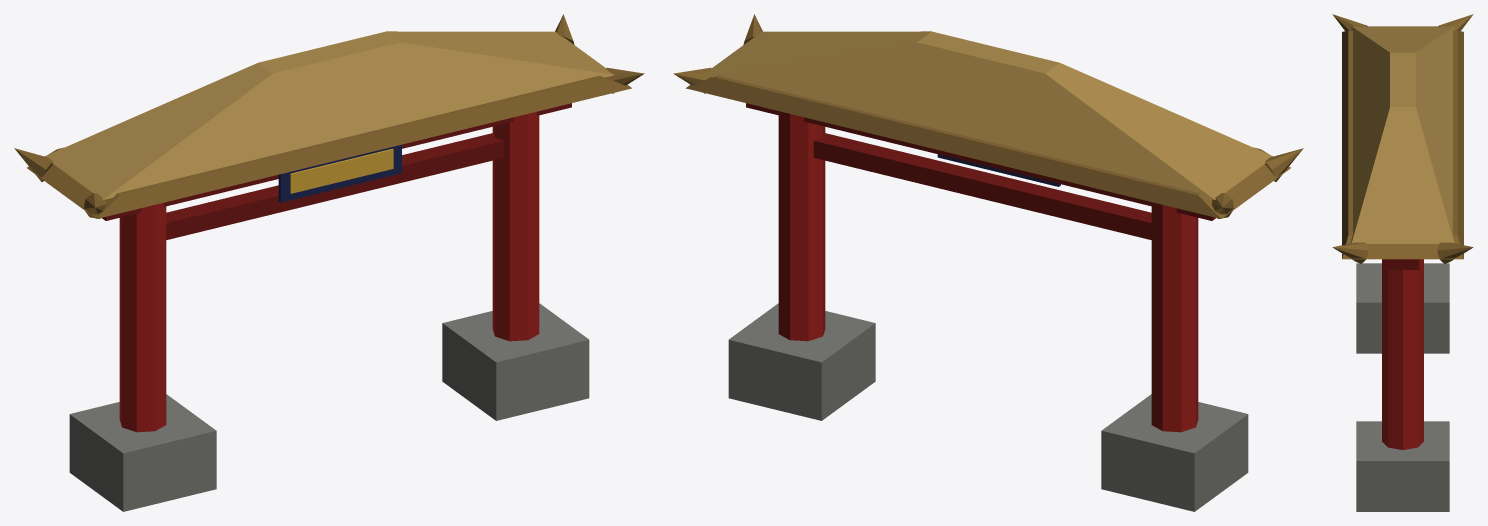
File: SM_GZ_gate_green.fbx
3 views of the same model, side by side, from view 1: azimuth 30°, elevation 25°; view 2: azimuth 150°, elevation 25°; view 3: azimuth 270°, elevation 25° (orthographic). The views are drawn at different scales.
Visible parts, largest first — view 1: SM_GZ_gate_green; view 2: SM_GZ_gate_green; view 3: SM_GZ_gate_green.
Part boxes in pixels (x1,y1,x2,y2): SM_GZ_gate_green: (14, 14, 644, 511); SM_GZ_gate_green: (673, 14, 1303, 511); SM_GZ_gate_green: (1332, 14, 1473, 511).
Size of the model in its own units: 1179 by 785 by 303.
